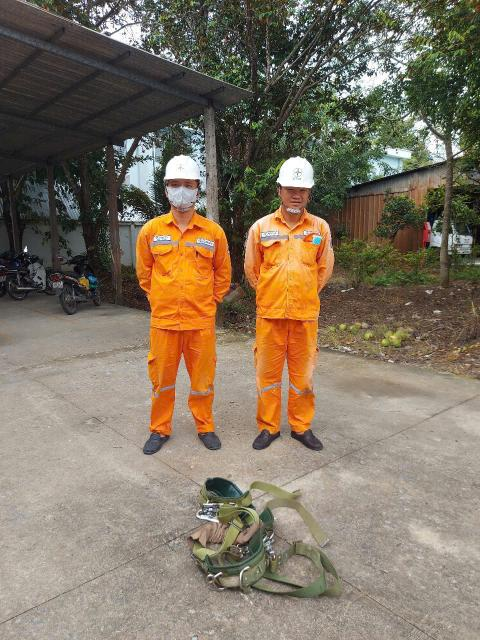helmet: (157, 150, 210, 188), (270, 157, 323, 191)
shoes: (288, 423, 330, 455), (135, 427, 173, 455), (246, 422, 284, 450)
